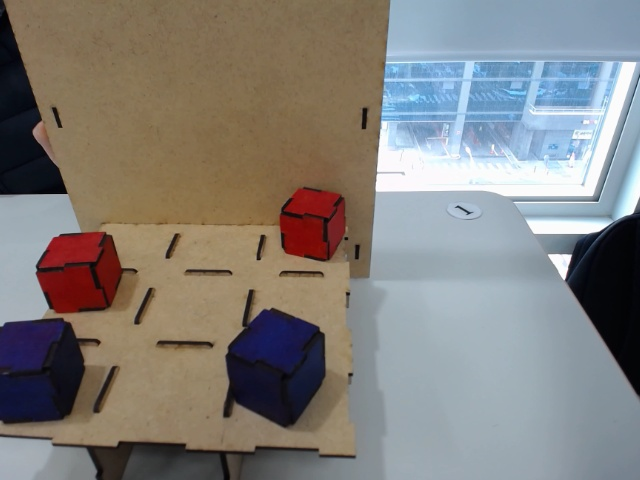blue: (226, 307, 326, 428), (1, 318, 85, 423)
red: (36, 229, 122, 314), (281, 186, 343, 261)
